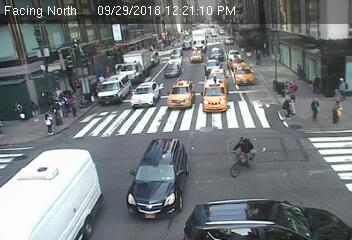car: (1, 149, 105, 240), (183, 199, 352, 239), (127, 139, 191, 221), (119, 51, 151, 82), (98, 75, 133, 103), (166, 79, 195, 109), (203, 78, 227, 112), (131, 82, 161, 107), (233, 63, 255, 87), (165, 61, 183, 78), (209, 46, 224, 64), (192, 29, 206, 48), (204, 59, 219, 74), (227, 49, 242, 63), (148, 50, 161, 66), (211, 67, 227, 80), (190, 50, 204, 63), (170, 48, 183, 61), (182, 41, 193, 51), (224, 35, 234, 44), (209, 29, 219, 38)
